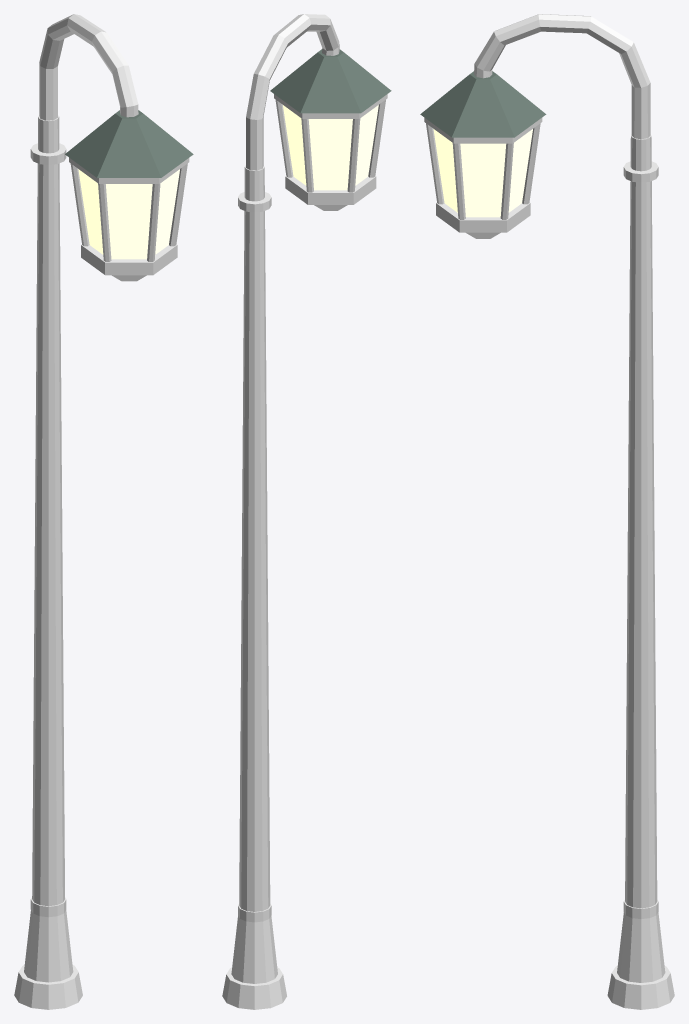
The model's file is lantern.glb.
The picture shows the model from 3 angles, left to right: view 1: azimuth 30°, elevation 25°; view 2: azimuth 150°, elevation 25°; view 3: azimuth 270°, elevation 25°; orthographic projection. The views are drawn at different scales.
Visible parts, largest first — view 1: V18 LANTERN far +000m; view 2: V18 LANTERN far +000m; view 3: V18 LANTERN far +000m.
Part boxes in pixels (x1=…): V18 LANTERN far +000m: x1=14, y1=14, x2=193, y2=1009; V18 LANTERN far +000m: x1=222, y1=14, x2=391, y2=1009; V18 LANTERN far +000m: x1=420, y1=14, x2=674, y2=1009.
Size of the model in its own units: 0.5196 by 5.14 by 1.21.
